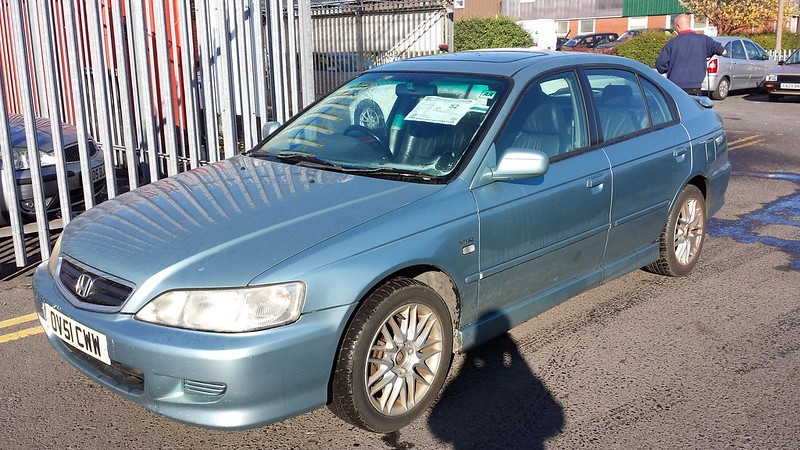number_plate: (39, 303, 142, 377)
